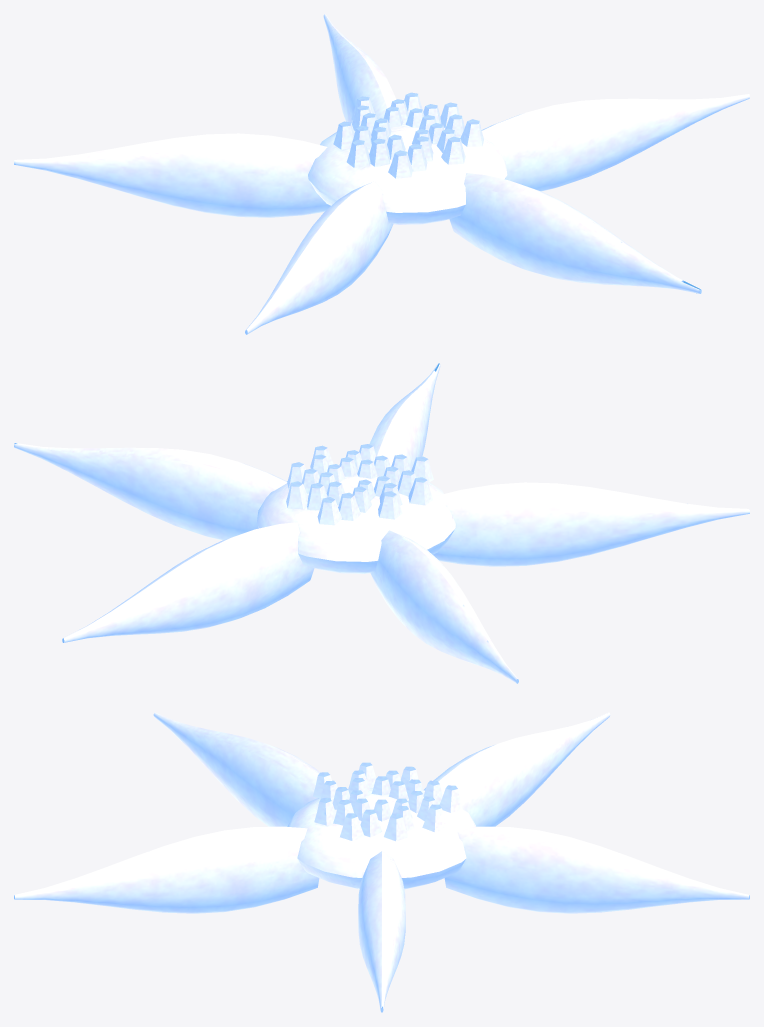
The model's file is henricia_sanguinolenta.glb.
3 renders of one model, top to bottom at view 1: azimuth 30°, elevation 25°; view 2: azimuth 150°, elevation 25°; view 3: azimuth 270°, elevation 25°, orthographic. The views are drawn at different scales.
Visible parts, largest first — view 1: henricia_sanguinolenta; view 2: henricia_sanguinolenta; view 3: henricia_sanguinolenta.
Boxes of the visible parts, x1,y1,x2,y2 form: henricia_sanguinolenta: [14, 14, 749, 334]; henricia_sanguinolenta: [14, 363, 749, 683]; henricia_sanguinolenta: [14, 712, 749, 1012].
Bounding box in the file's own units: 0.5325 × 0.0836 × 0.5599.
Materials: 1 (1 with a texture image).
